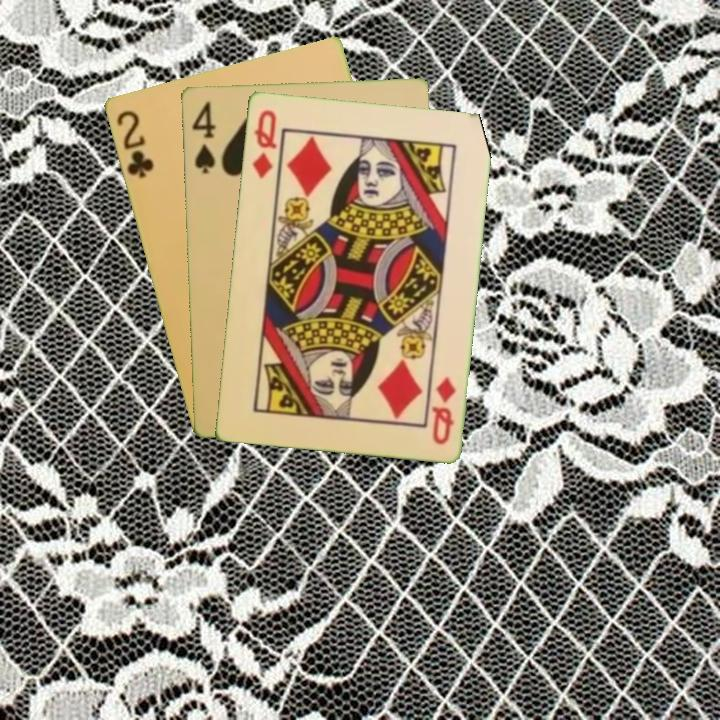2c: (112, 106, 156, 181)
4s: (187, 97, 219, 177)
Qd: (248, 106, 279, 181), (428, 373, 459, 447)
